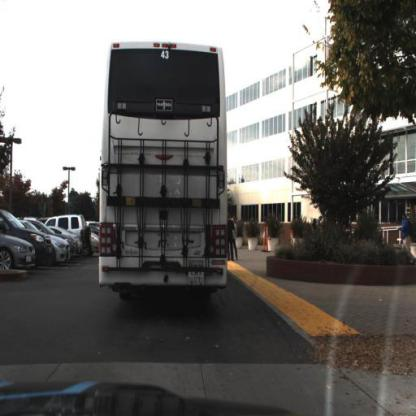car: (19, 224, 54, 269), (1, 232, 35, 270), (55, 211, 89, 238), (33, 226, 54, 266), (53, 230, 72, 266), (68, 236, 82, 261)
pedestrian: (396, 205, 416, 264), (406, 197, 416, 267), (225, 213, 235, 263), (401, 209, 411, 258), (310, 208, 327, 234), (232, 217, 240, 265)
truck: (92, 35, 238, 316)
